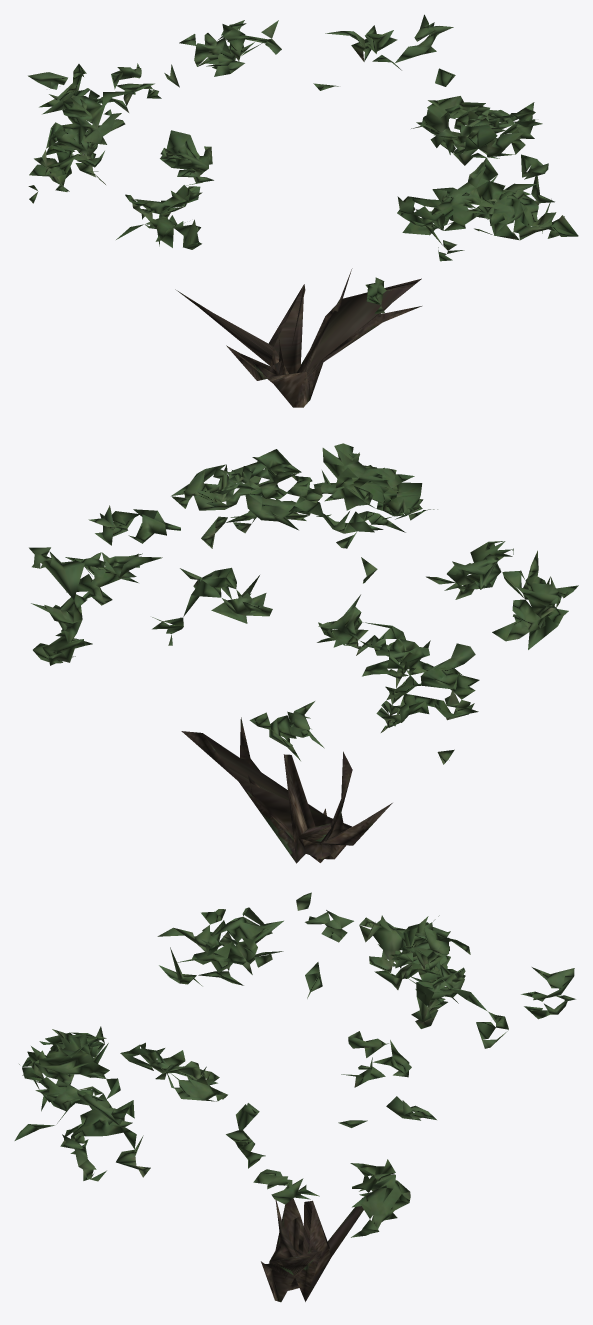
The model's file is bush-1.glb.
3 renders of one model, top to bottom at view 1: azimuth 30°, elevation 25°; view 2: azimuth 150°, elevation 25°; view 3: azimuth 270°, elevation 25°, orthographic. The views are drawn at different scales.
Visible parts, largest first — view 1: geometry_0; view 2: geometry_0; view 3: geometry_0.
Boxes of the visible parts, x1,y1,x2,y2 form: geometry_0: (28,14,578,407); geometry_0: (29,443,578,863); geometry_0: (14,892,575,1302).
Size of the model in its own units: 0.6819 by 0.5488 by 0.7229.
Materials: 1 (1 with a texture image).
